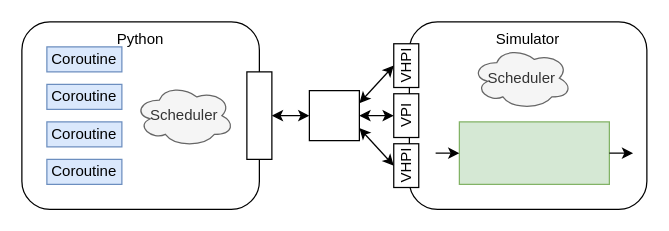
This 669x231 diagram has some shape labels left out. The shapes that lost their labels are listed below. From the top down, each one's centre as x and y in pixels, then its label:
At (259,115): "Bindings".
At (333,115): "GPI".
At (533,152): "DUT (VHDL, Verilog)".
